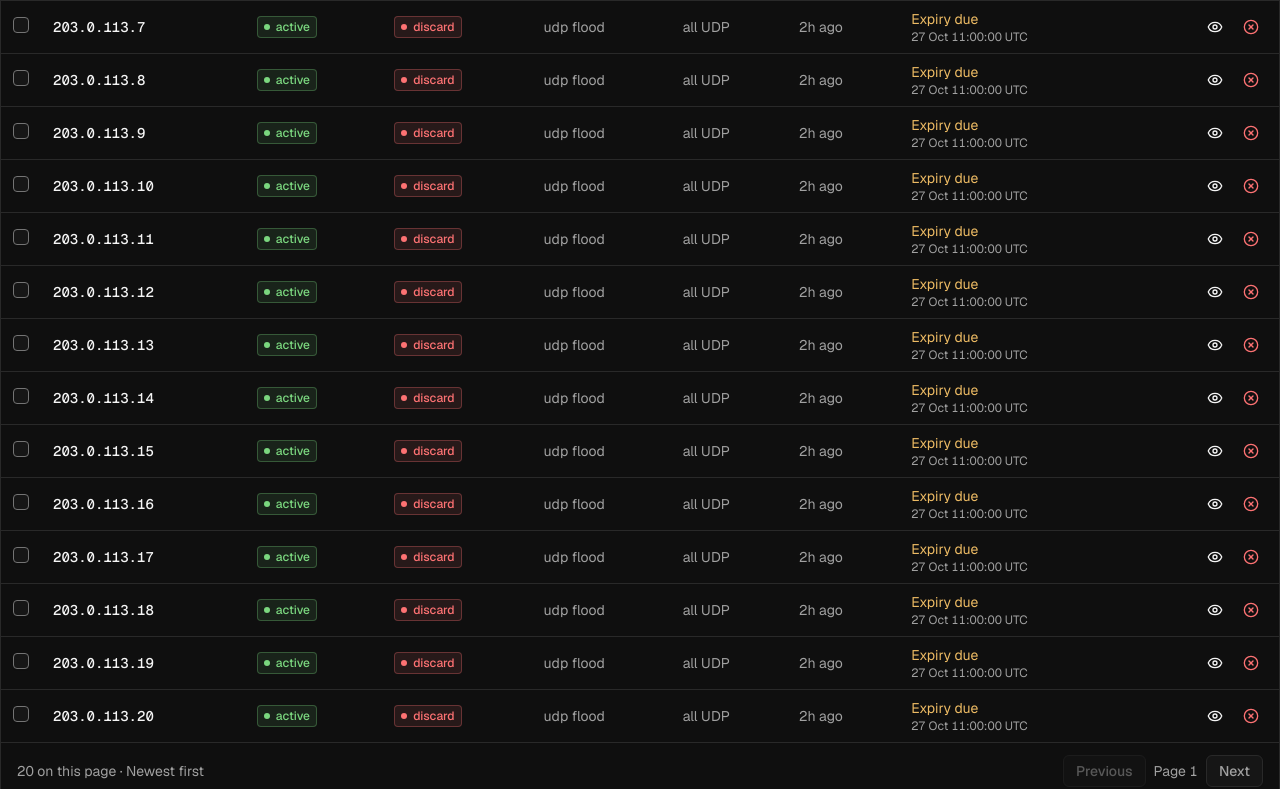
Scenario: complete mitigation navigation › searches and filters on the server, with choices outside the current page
(page scrolled)
Check: the text "Page 1" is shown, box x1=1154 y1=760 x2=1198 y2=780
Click the button "Next" at (1234, 770), box x1=1206 y1=754 x2=1263 y2=786
(page scrolled)
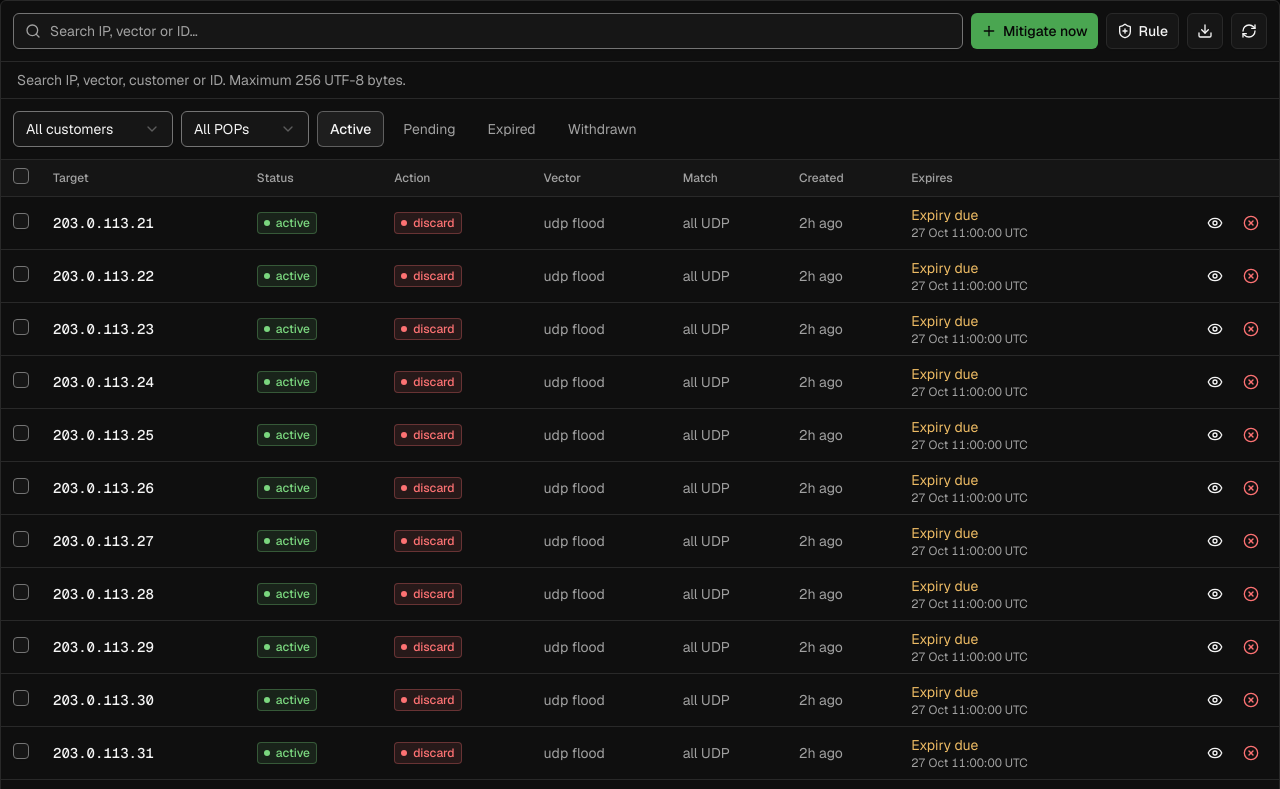
Type "older-customer" into the field named "Search mitigations" at (488, 31), box x1=13 y1=13 x2=963 y2=49
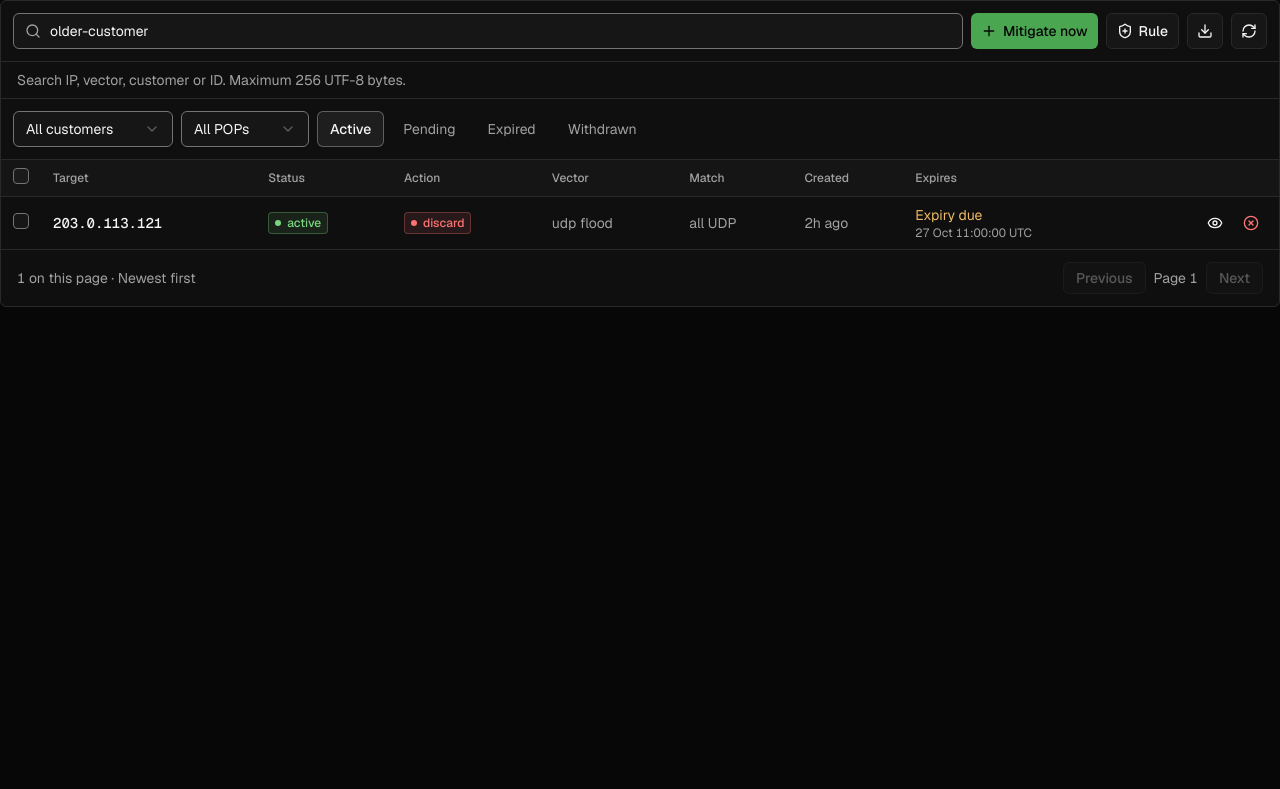
Check: the link "203.0.113.121" is shown, box x1=53 y1=214 x2=162 y2=232
Check: the text "Page 1" is shown, box x1=1154 y1=268 x2=1198 y2=288
Clear the field named "Search mitigations" at (488, 31), box x1=13 y1=13 x2=963 y2=49
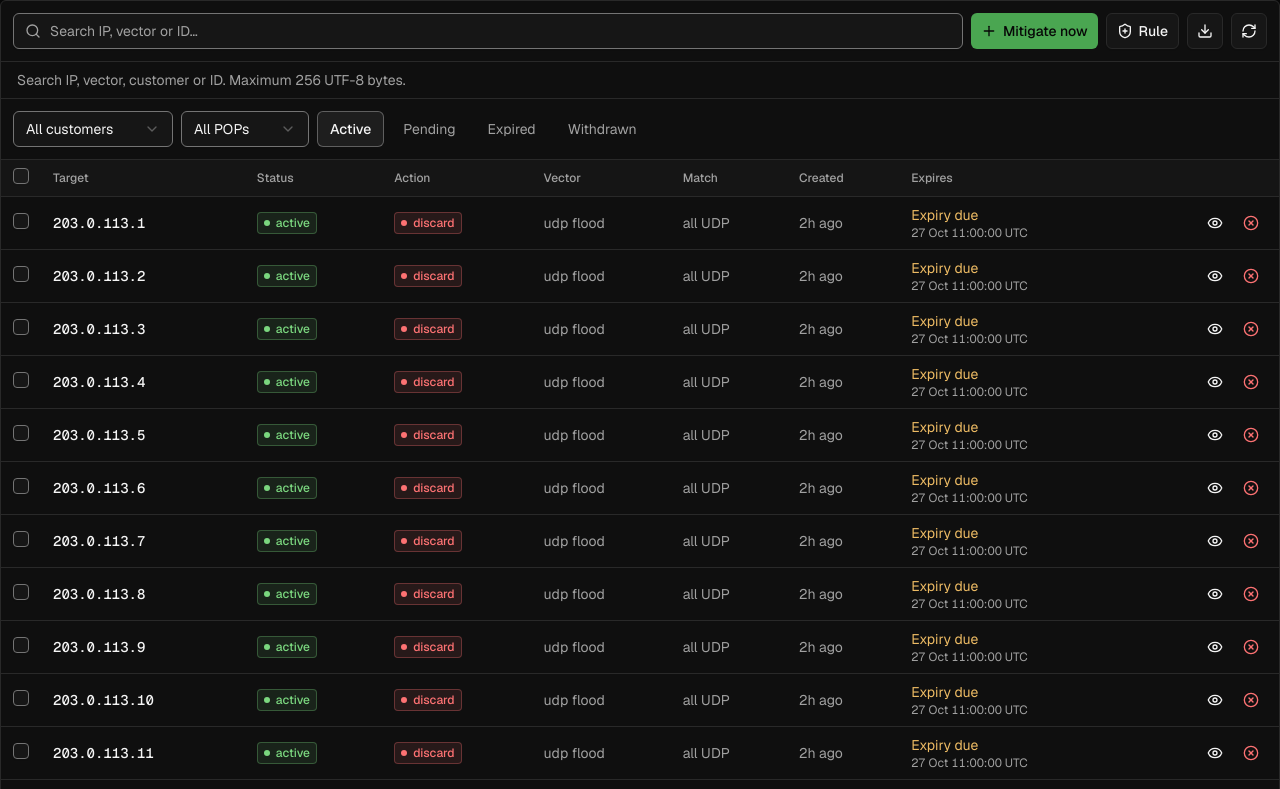
Check: the link "203.0.113.1" is shown, box x1=53 y1=214 x2=145 y2=232
Press Enter in the dropdown labelled "customer", box x1=13 y1=111 x2=173 y2=147
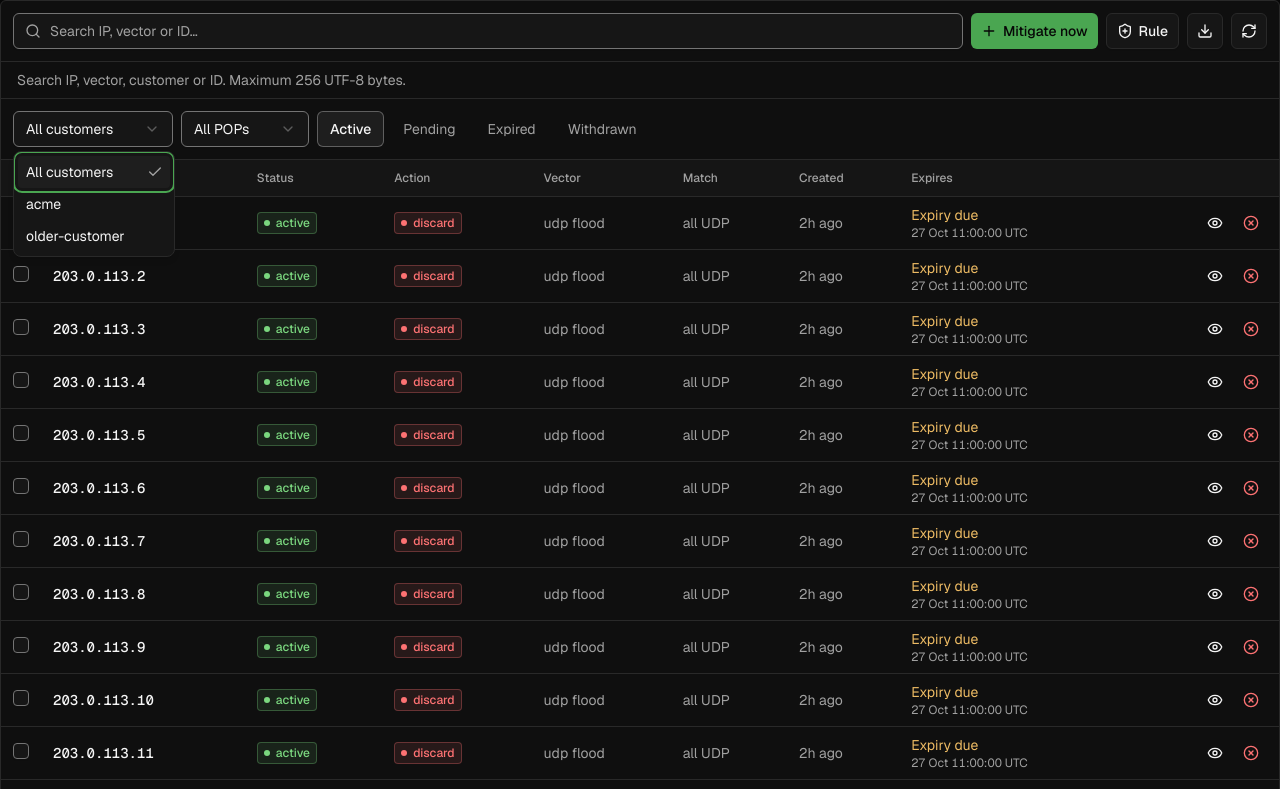
Click the option "older-customer" at (75, 236), box x1=26 y1=227 x2=125 y2=245
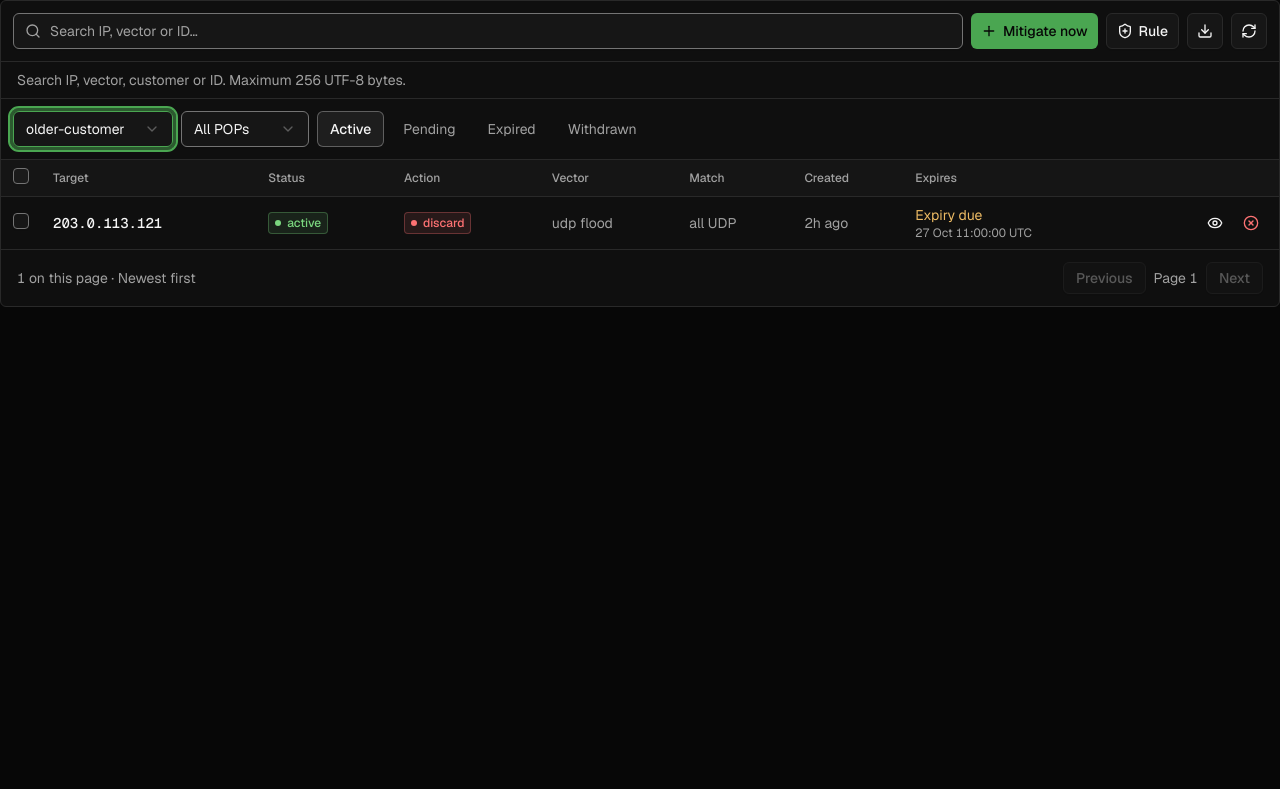
Check: the link "203.0.113.121" is shown, box x1=53 y1=214 x2=162 y2=232
Check: the text "older-customer" is shown, box x1=26 y1=119 x2=125 y2=139
